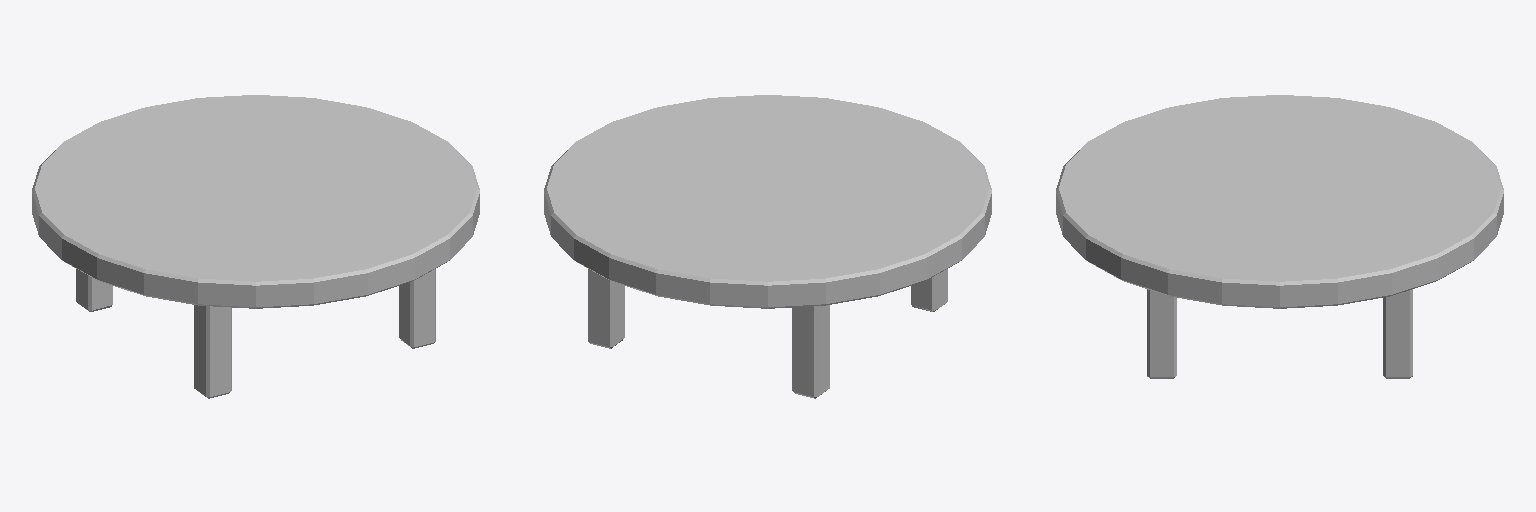
The model's file is table_round_B.obj.
The picture shows the model from 3 angles: view 1: azimuth 30°, elevation 25°; view 2: azimuth 150°, elevation 25°; view 3: azimuth 270°, elevation 25°; orthographic projection.
Parts seen in each view (by area): view 1: table_round_B_Cylinder.471; view 2: table_round_B_Cylinder.471; view 3: table_round_B_Cylinder.471.
Part boxes in pixels (x1,y1,x2,y2): table_round_B_Cylinder.471: (32, 95, 479, 398); table_round_B_Cylinder.471: (544, 95, 991, 398); table_round_B_Cylinder.471: (1056, 95, 1503, 378).
Size of the model in its own units: 3 by 1 by 3.